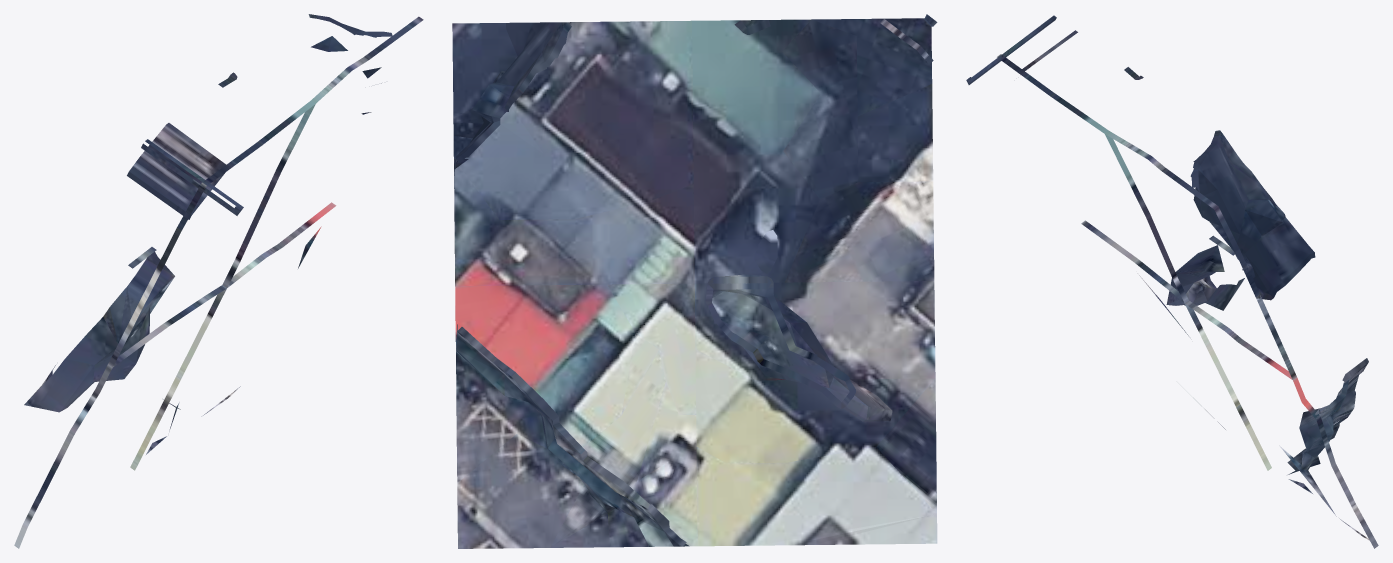
The picture shows the model from 3 angles, left to right: view 1: azimuth 30°, elevation 25°; view 2: azimuth 150°, elevation 25°; view 3: azimuth 270°, elevation 25°; orthographic projection. The views are drawn at different scales.
Bounding box in the file's own units: 38.42 × 37.64 × 34.09.
Materials: 1 (1 with a texture image).
